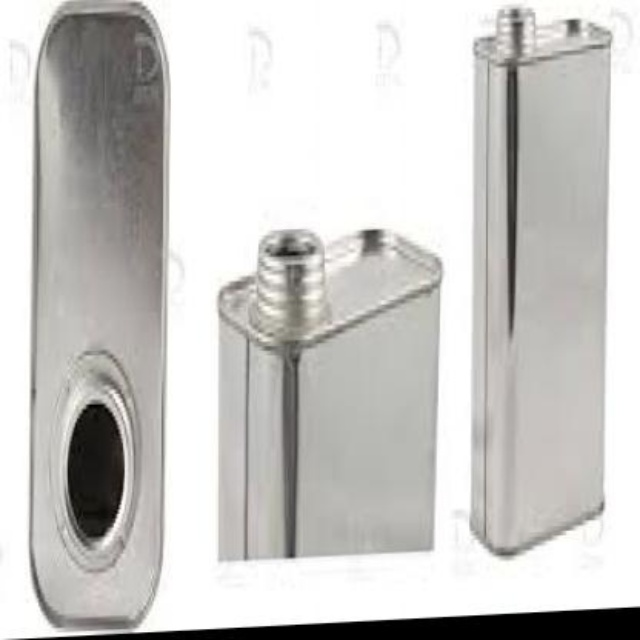trash: (31, 2, 166, 626), (471, 8, 609, 552), (218, 229, 440, 557)
